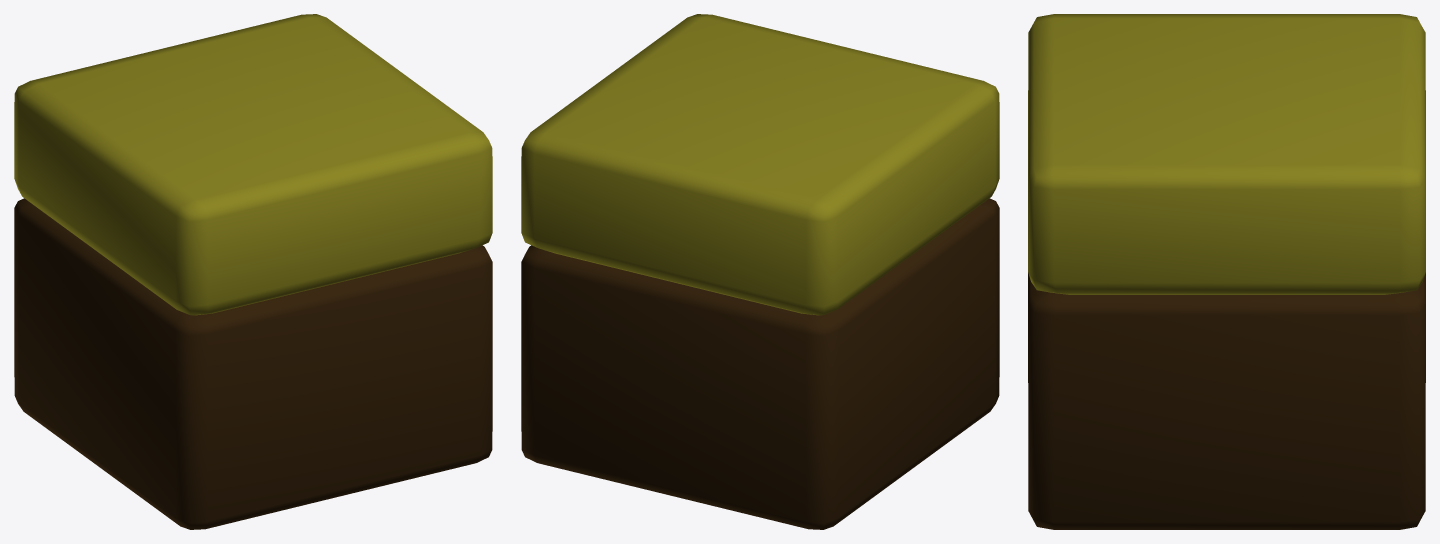
The model's file is platform_2x2_grass.glb.
3 views of the same model, side by side, from view 1: azimuth 30°, elevation 25°; view 2: azimuth 150°, elevation 25°; view 3: azimuth 270°, elevation 25° (orthographic). The views are drawn at different scales.
Parts seen in each view (by area): view 1: platform_2x2_grass; view 2: platform_2x2_grass; view 3: platform_2x2_grass.
Part boxes in pixels (box(x1,y1,x2,y2)): platform_2x2_grass: box(14, 14, 492, 529); platform_2x2_grass: box(521, 14, 999, 529); platform_2x2_grass: box(1028, 14, 1425, 529).
Size of the model in its own units: 2 by 2 by 2.
1 material, 1 textured.
